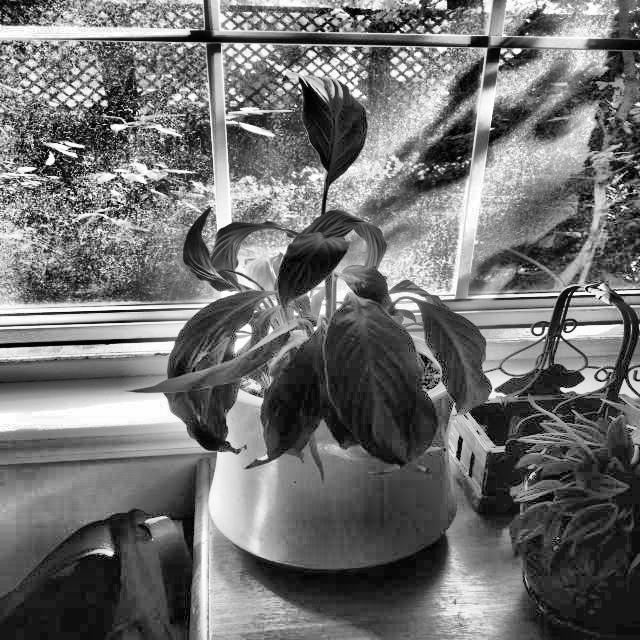plants: (144, 81, 496, 572)
